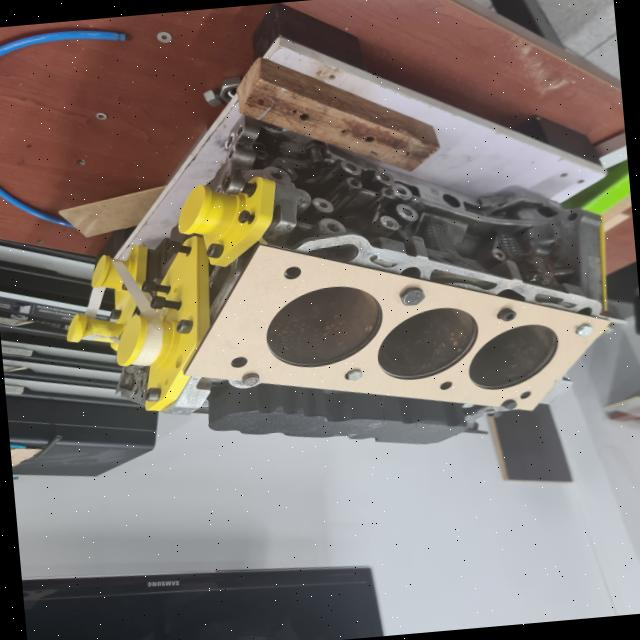tor_v1: (187, 245, 608, 409)
